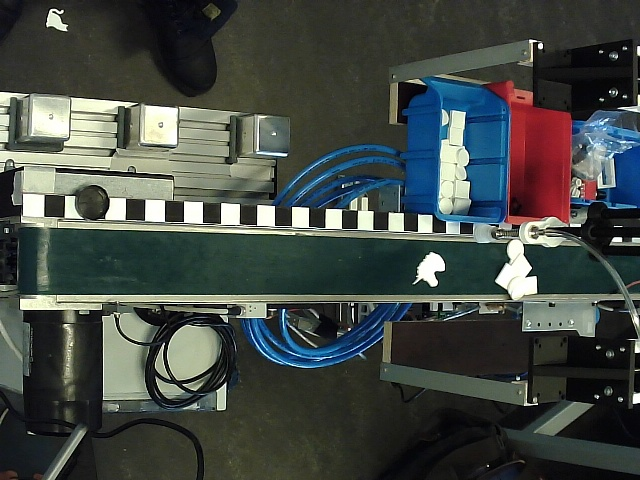unicorn: (412, 251, 447, 289)
